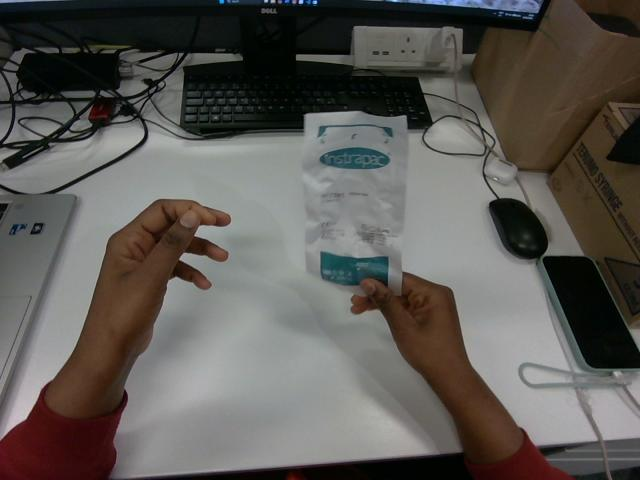gallipot: (303, 112, 407, 293)
